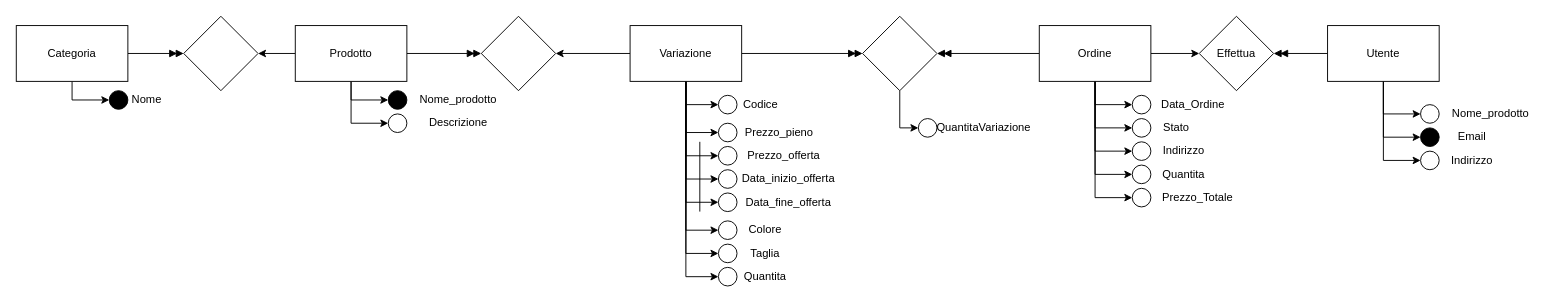
The diagram is 1558 pixels wide and 307 high, and some of its shapes have lost their labels. The shapes that lost their labels are listed below. From the top down, each one's centre as x and y in pixels, then its label:
At (x=220, y=53): "Appartiene".
At (x=518, y=53): "Corrsiponde".
At (x=899, y=53): "OrdineVariazione".
